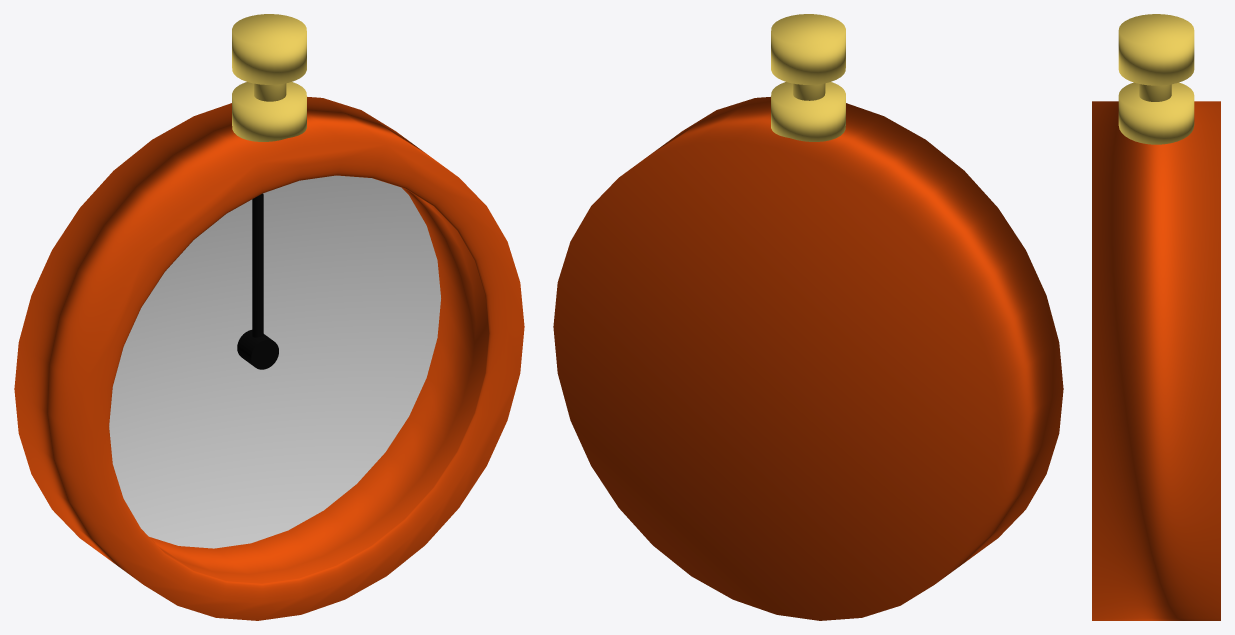
The model's file is Item_stoptime.fbx.
3 views of the same model, side by side, from view 1: azimuth 30°, elevation 25°; view 2: azimuth 150°, elevation 25°; view 3: azimuth 270°, elevation 25° (orthographic).
Parts seen in each view (by area): view 1: Cylinder, Cylinder.002, Cylinder.001, Cylinder.005, Cylinder.004; view 2: Cylinder, Cylinder.002, Cylinder.001; view 3: Cylinder, Cylinder.002, Cylinder.001, Cylinder.003.
Boxes of the visible parts, box(x1,y1,x2,y2) form: Cylinder: box(14, 97, 524, 620); Cylinder.002: box(232, 14, 306, 84); Cylinder.001: box(232, 82, 306, 141); Cylinder.005: box(252, 193, 263, 337); Cylinder.004: box(237, 330, 278, 369); Cylinder: box(553, 97, 1063, 620); Cylinder.002: box(771, 14, 845, 84); Cylinder.001: box(771, 82, 845, 141); Cylinder: box(1092, 101, 1220, 620); Cylinder.002: box(1118, 14, 1194, 85); Cylinder.001: box(1118, 82, 1194, 144); Cylinder.003: box(1139, 84, 1171, 101).
Size of the model in its own units: 200 by 241 by 49.53.
